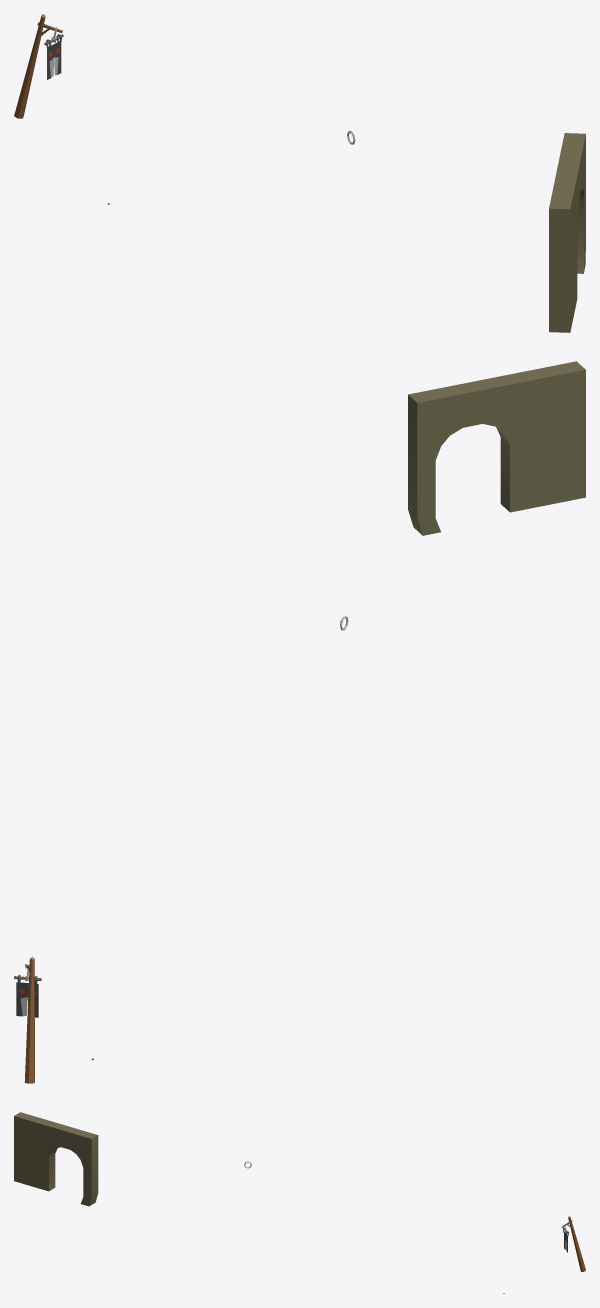
The picture shows the model from 3 angles, top to bottom: view 1: azimuth 30°, elevation 25°; view 2: azimuth 150°, elevation 25°; view 3: azimuth 270°, elevation 25°; orthographic projection. The views are drawn at different scales.
Visible parts, largest first — view 1: Box15795_rock2_0, Cylinder1477_brown_0; view 2: Box15795_rock2_0, Cylinder1477_brown_0; view 3: Box15795_rock2_0, Cylinder1477_brown_0.
Part boxes in pixels (x1,y1,x2,y2): Box15795_rock2_0: (549, 133, 585, 332); Cylinder1477_brown_0: (14, 16, 45, 118); Box15795_rock2_0: (408, 361, 585, 535); Cylinder1477_brown_0: (24, 959, 34, 1083); Box15795_rock2_0: (14, 1112, 98, 1206); Cylinder1477_brown_0: (568, 1217, 585, 1271).
Bounding box in the file's own units: 568 × 1724 × 5054.
